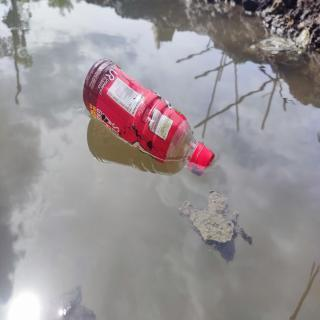bottle: (82, 55, 218, 177)
